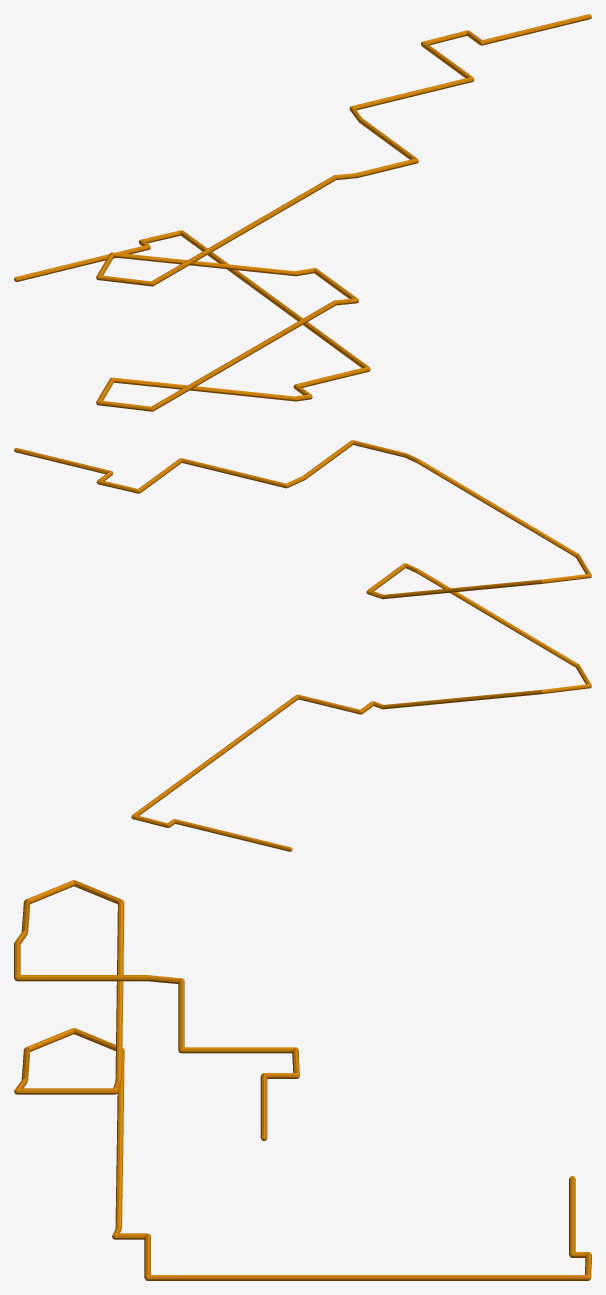
3 views of the same model, one above another, from view 1: azimuth 30°, elevation 25°; view 2: azimuth 150°, elevation 25°; view 3: azimuth 270°, elevation 25° (orthographic). The views are drawn at different scales.
Size of the model in its own units: 2406 by 1020 by 1772.
